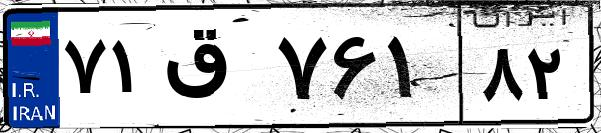1: (385, 28, 445, 110), (110, 28, 158, 98)
2: (525, 38, 570, 115)
6: (330, 28, 385, 110)
7: (270, 28, 330, 110), (57, 26, 110, 100)
8: (475, 38, 525, 113)
ق: (158, 20, 270, 120)
